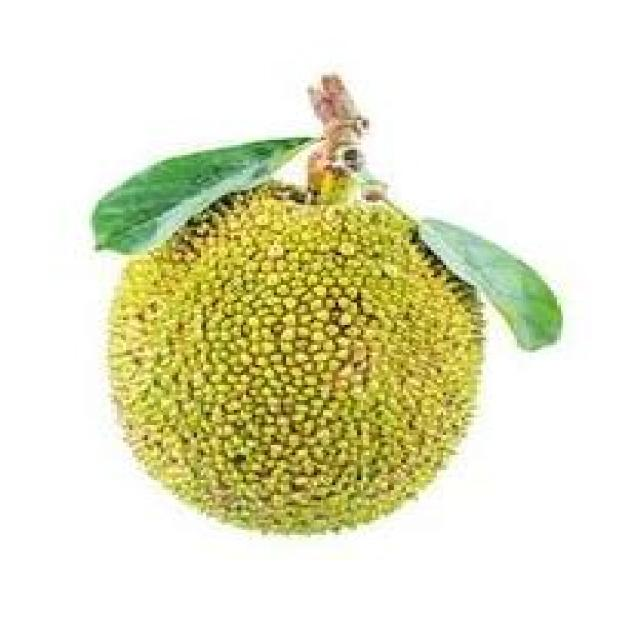Fruit: (95, 155, 523, 560)
